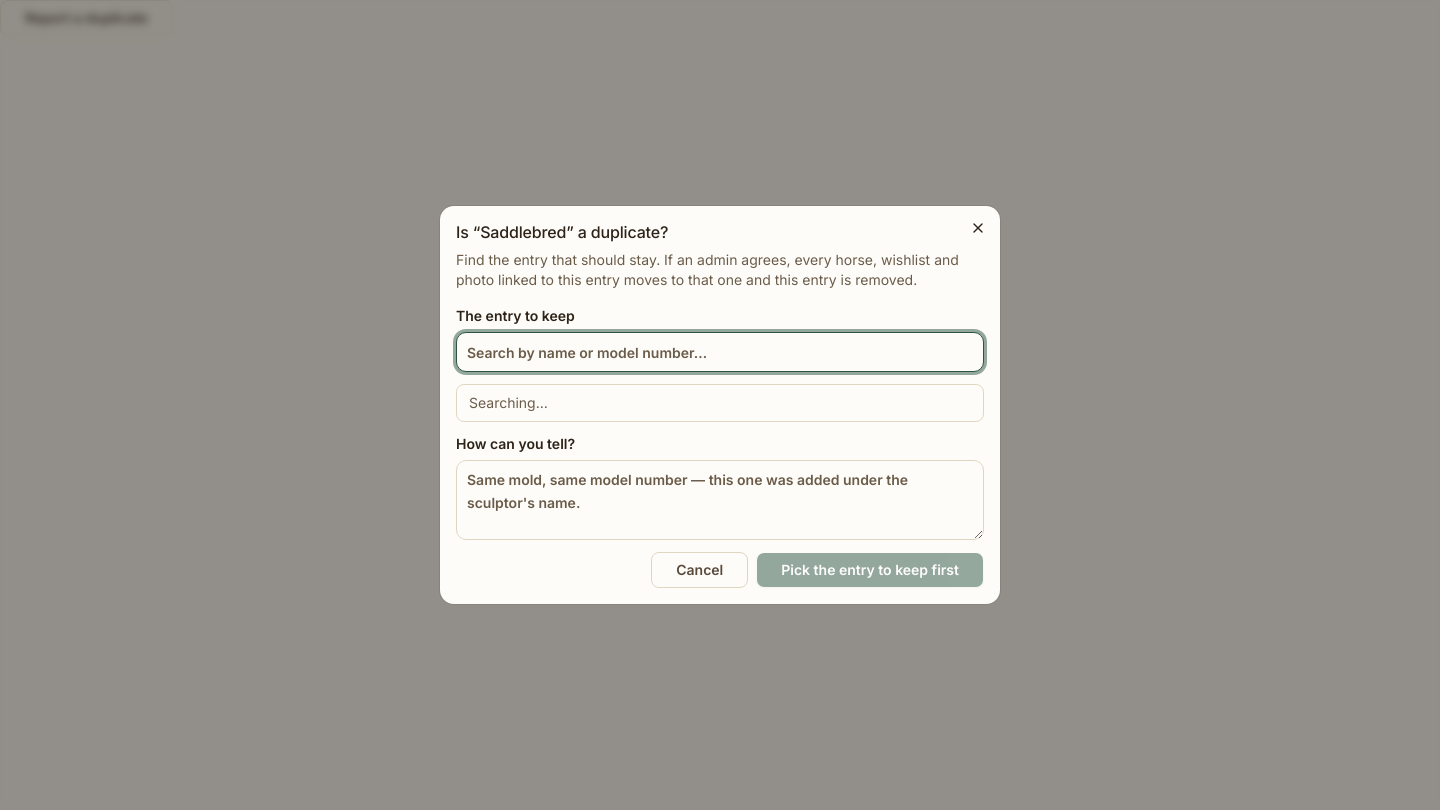
ReportDuplicateModal › says so in plain words when the search fails, instead of staying on 'Searching…'
Type "Pinto Saddlebred" into the field with placeholder "Search by name or model number…" at (720, 352), box [456,332,984,372]
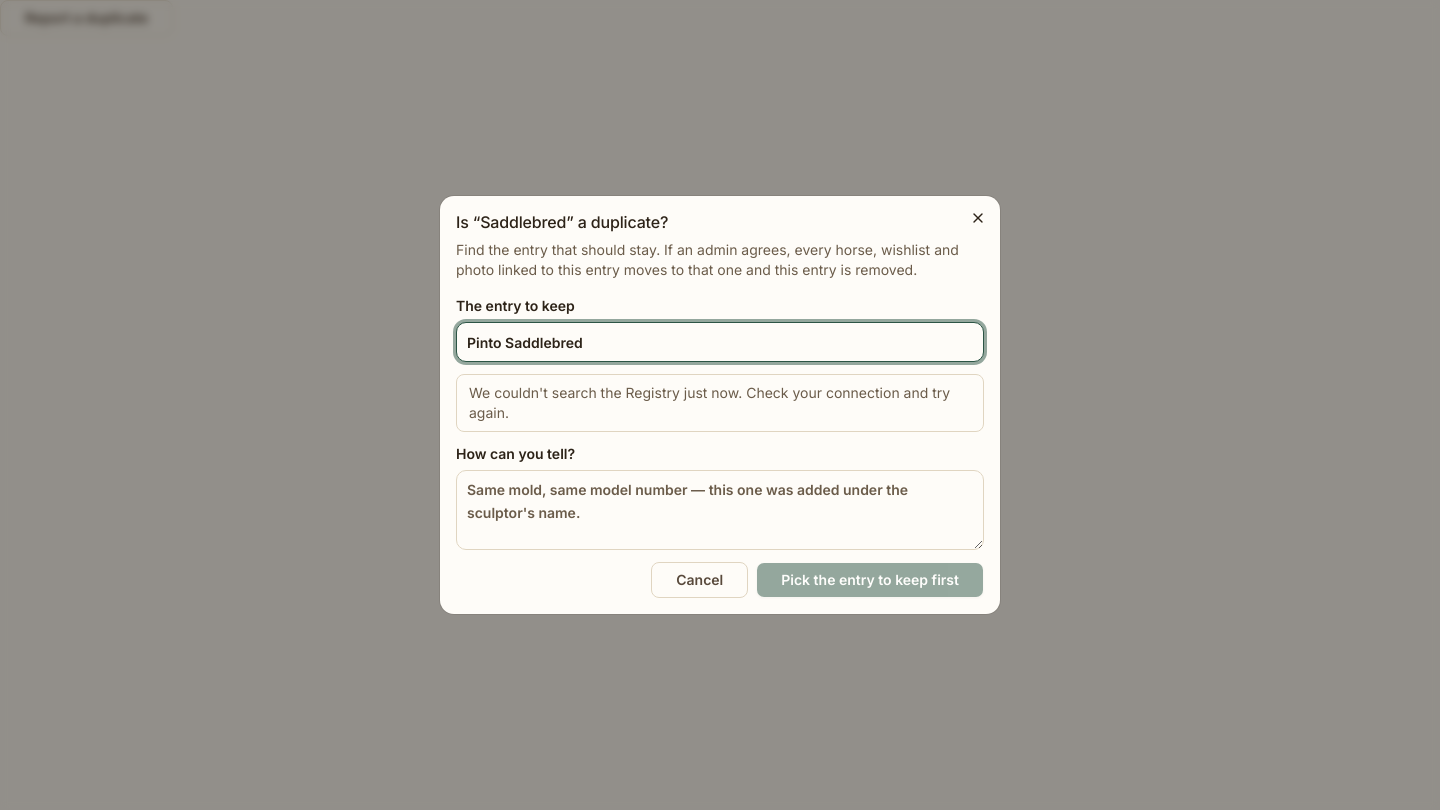
Expected: the list item with test id "report-duplicate-results" no longer shows "Searching"
Replace the text in the field with placeholder "Search by name or model number…" with "Pinto Saddlebred 5002" at (720, 342), box [456,322,984,362]
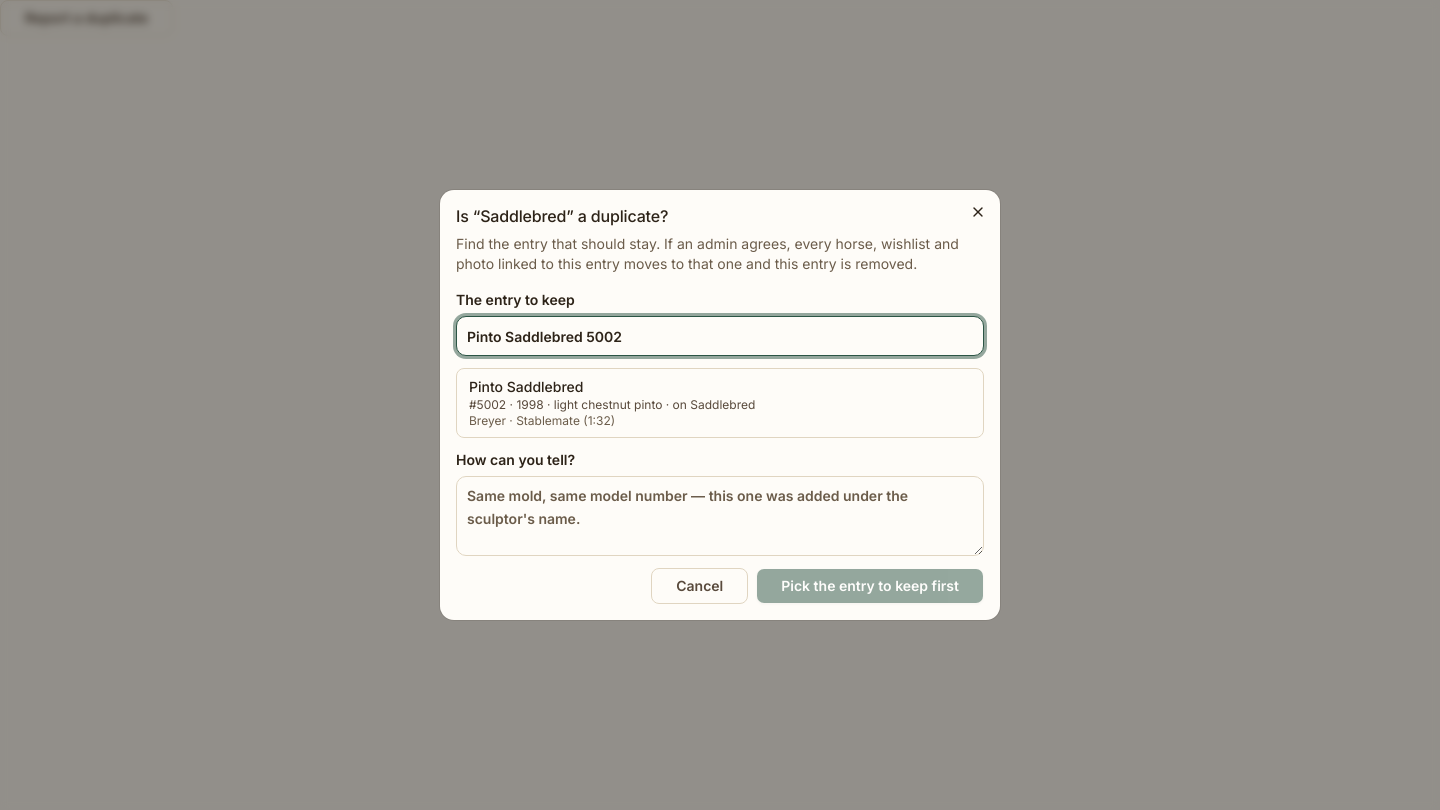
Expected: the number of buttons with test id "report-duplicate-pick" is 1, [457,369,983,437]
Expected: the list item with test id "report-duplicate-results" no longer shows "couldn.t search"
